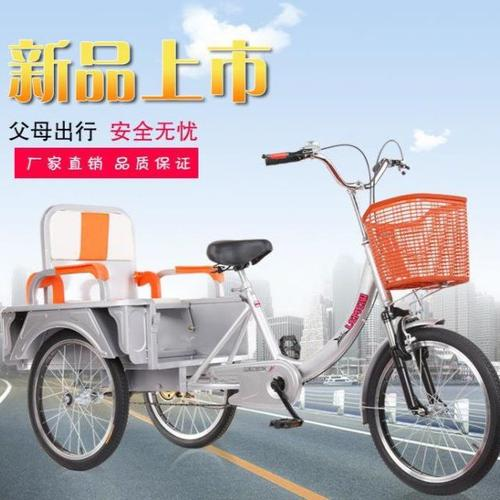empty: (8, 144, 494, 492)
